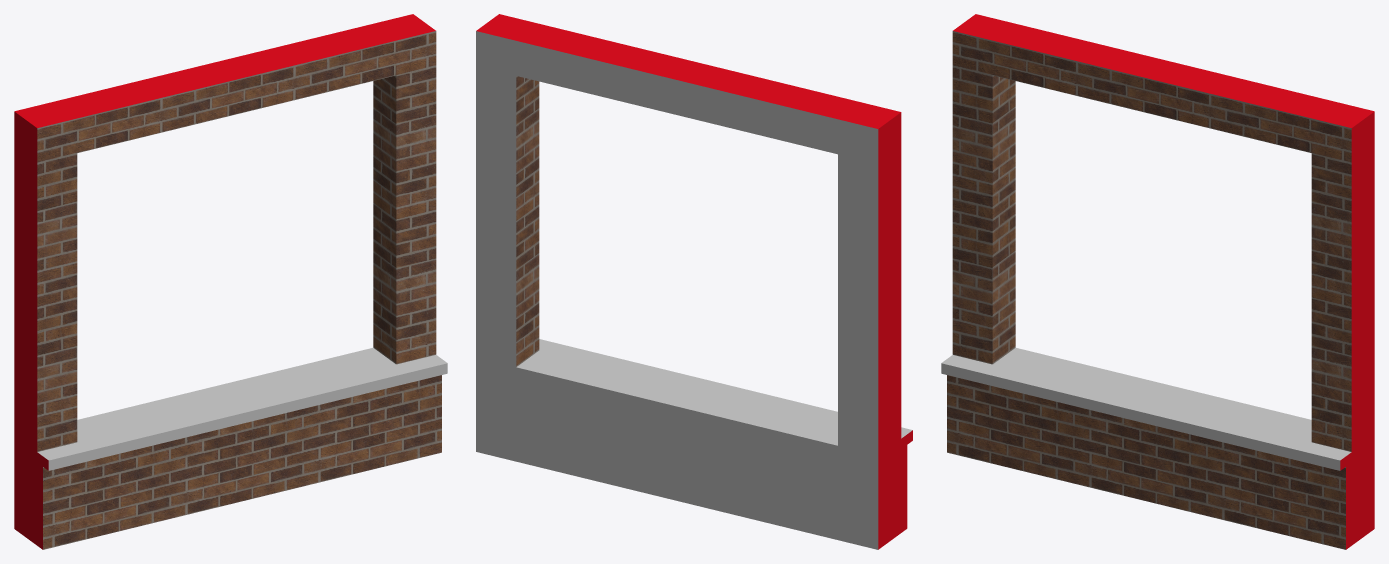
Rendered from CoffeeWall0.2.fbx.
The picture shows the model from 3 angles, left to right: view 1: azimuth 30°, elevation 25°; view 2: azimuth 150°, elevation 25°; view 3: azimuth 330°, elevation 25°; orthographic projection.
Visible parts, largest first — view 1: Cube; view 2: Cube; view 3: Cube.
Boxes of the visible parts, <box> form: Cube: <box>14,14,447,549</box>; Cube: <box>476,14,912,549</box>; Cube: <box>941,14,1374,549</box>.
Bounding box in the file's own units: 400 × 400 × 60.
